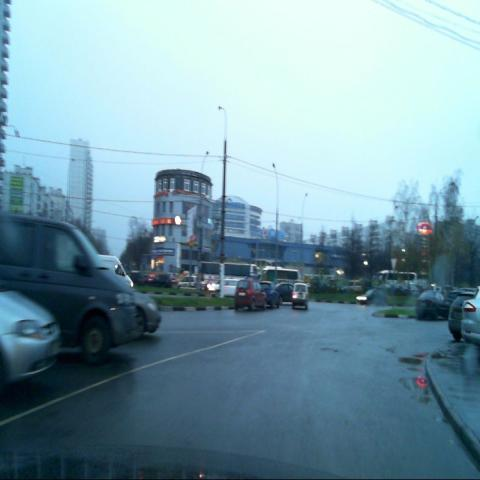2_4: (390, 257, 397, 271)
